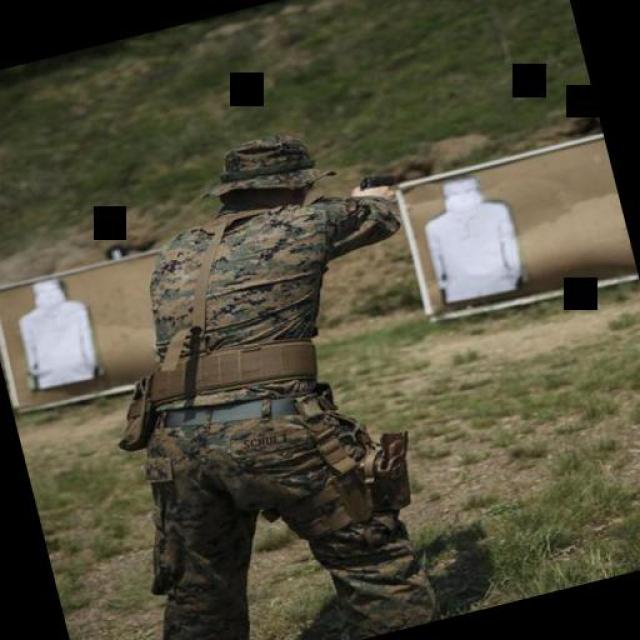gun: (351, 164, 411, 214)
